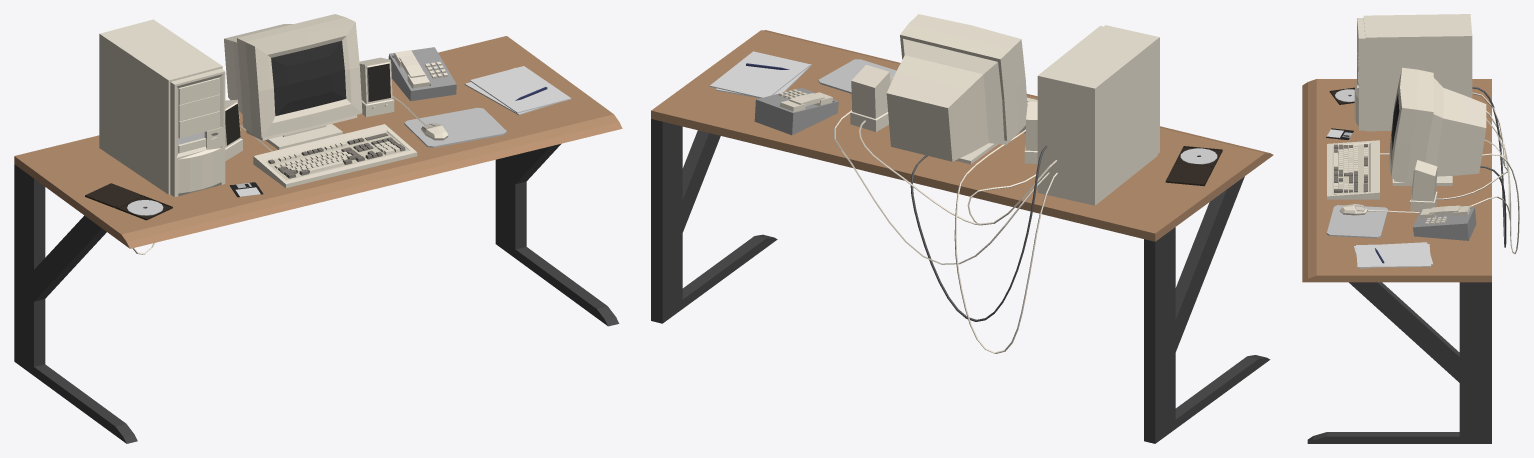
The model's file is Sketchfab_Scene.gltf.
3 views of the same model, side by side, from view 1: azimuth 30°, elevation 25°; view 2: azimuth 150°, elevation 25°; view 3: azimuth 270°, elevation 25° (orthographic). The views are drawn at different scales.
Parts seen in each view (by area): view 1: Office_desk, Computer_case, Computer_monitor.001, Keyboard, Paper2, Mousepad, Phone_stand, SpeakerL, CD_case, SpeakerR, Phonehandle; view 2: Office_desk, Computer_case, Computer_monitor.001, Paper2, SpeakerL, Phone_stand, CD_case, Monitor_cable, KeyboardCable, Mousepad, Speakers_cable, SpeakerR (+2 smaller); view 3: Office_desk, Computer_case, Computer_monitor.001, Keyboard, Paper2, Mousepad, Phone_stand, SpeakerL, Monitor_cable, KeyboardCable, Phonehandle, Speakers_cable (+4 smaller).
Boxes of the visible parts, bbox=[...] form: Office_desk: bbox=[14, 36, 622, 443]; Computer_case: bbox=[99, 19, 225, 197]; Computer_monitor.001: bbox=[224, 14, 362, 149]; Keyboard: bbox=[253, 124, 417, 187]; Paper2: bbox=[470, 66, 571, 113]; Mousepad: bbox=[404, 107, 506, 147]; Phone_stand: bbox=[388, 47, 456, 101]; SpeakerL: bbox=[359, 57, 394, 116]; CD_case: bbox=[85, 183, 172, 220]; SpeakerR: bbox=[225, 99, 242, 160]; Phonehandle: bbox=[394, 50, 429, 88]; Office_desk: bbox=[651, 30, 1273, 443]; Computer_case: bbox=[1037, 25, 1159, 205]; Computer_monitor.001: bbox=[886, 14, 1027, 164]; Paper2: bbox=[709, 51, 810, 98]; SpeakerL: bbox=[850, 65, 890, 131]; Phone_stand: bbox=[754, 87, 838, 135]; CD_case: bbox=[1165, 146, 1222, 186]; Monitor_cable: bbox=[910, 145, 1047, 321]; KeyboardCable: bbox=[954, 129, 1057, 353]; Mousepad: bbox=[818, 59, 896, 93]; Speakers_cable: bbox=[859, 120, 1056, 225]; SpeakerR: bbox=[1024, 101, 1037, 163]; Office_desk: bbox=[1302, 79, 1491, 443]; Computer_case: bbox=[1354, 14, 1472, 131]; Computer_monitor.001: bbox=[1389, 67, 1486, 185]; Keyboard: bbox=[1327, 140, 1379, 199]; Paper2: bbox=[1356, 244, 1431, 267]; Mousepad: bbox=[1326, 205, 1387, 238]; Phone_stand: bbox=[1412, 207, 1476, 240]; SpeakerL: bbox=[1409, 160, 1437, 211]; Monitor_cable: bbox=[1472, 87, 1506, 247]; KeyboardCable: bbox=[1380, 111, 1519, 254]; Phonehandle: bbox=[1420, 205, 1470, 218]; Speakers_cable: bbox=[1436, 92, 1508, 200].
Size of the model in its own units: 188 by 116 by 87.55.
Materials: 2 (2 with a texture image).
